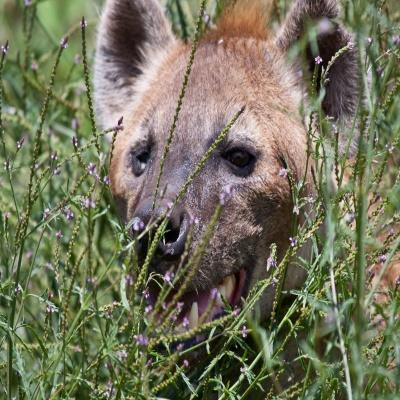hyenas: (3, 0, 400, 394)
